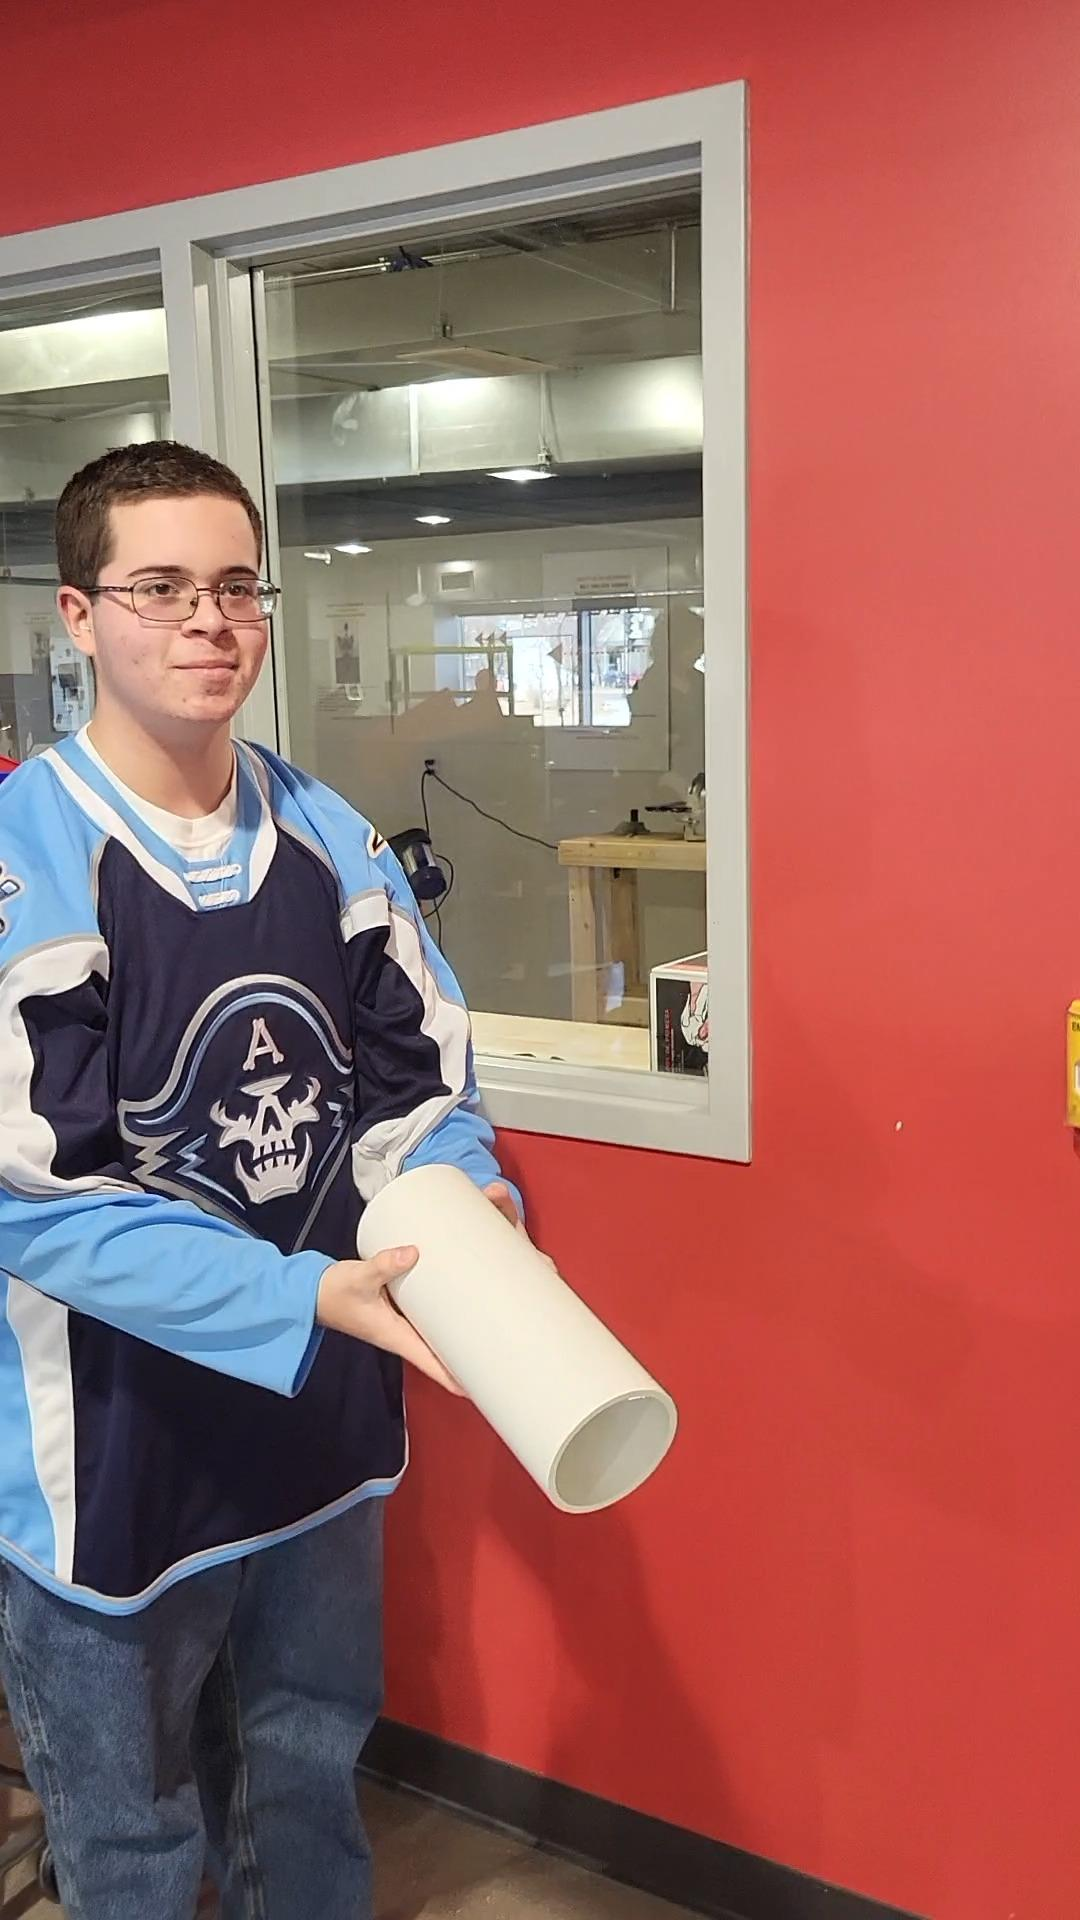coral: (353, 1167, 690, 1530)
